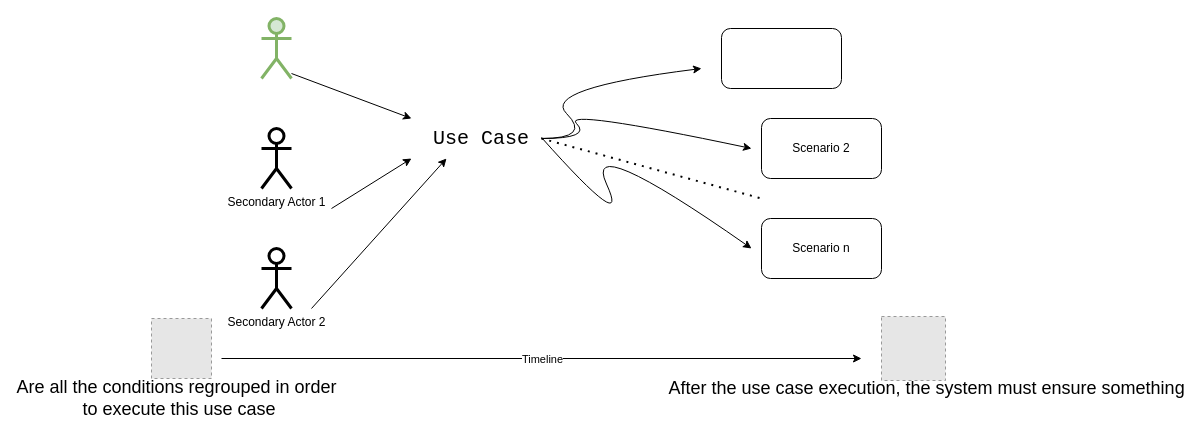
The diagram is 1201 pixels wide and 437 high, and some of its shapes have lost their labels. Grey dashed boxes stand in for pictures. The centre of each missing label's shape, as x and y in pixels:
"Primary Actor" belongs at [276,48].
"Scenario 1" belongs at [781,58].
